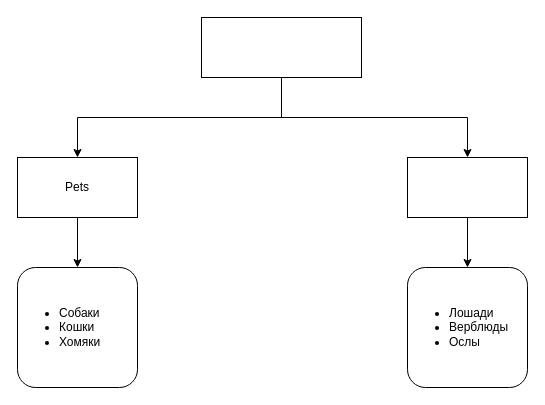
The diagram is 545 pixels wide and 405 high, and some of its shapes have lost their labels. Each missing label, with the centre of its shape:
Animals: [281,47]
PackAnimals: [467,187]
